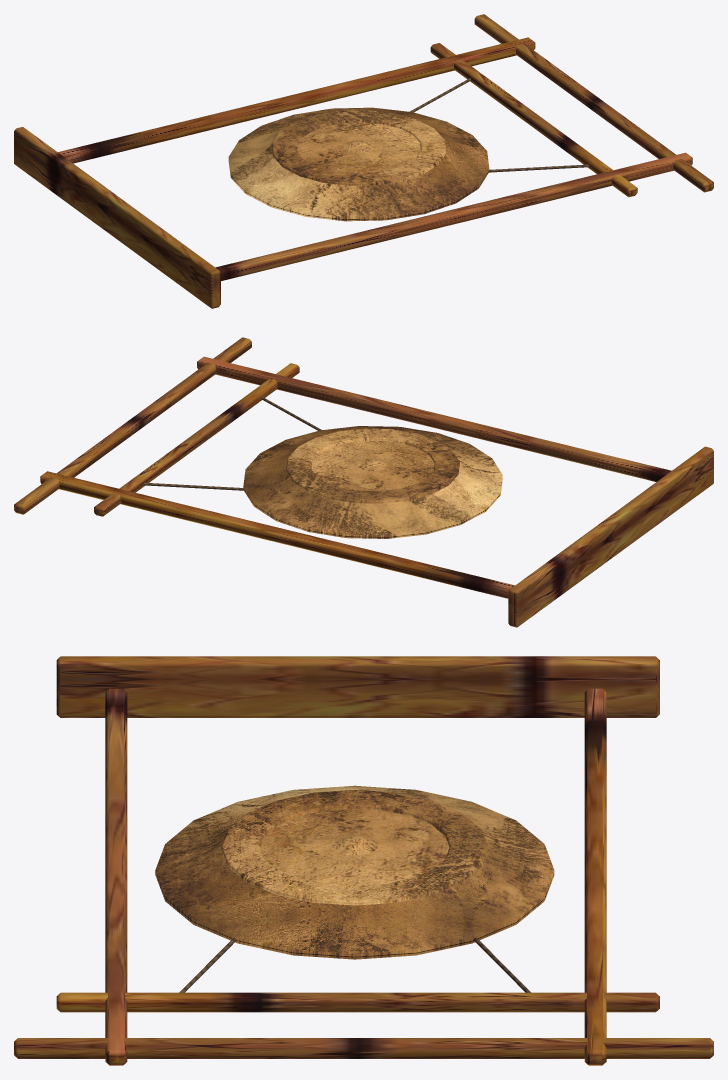
File: Gong.fbx
The picture shows the model from 3 angles, top to bottom: view 1: azimuth 30°, elevation 25°; view 2: azimuth 150°, elevation 25°; view 3: azimuth 270°, elevation 25°; orthographic projection. The views are drawn at different scales.
Visible parts, largest first — view 1: pCube7; view 2: pCube7; view 3: pCube7.
Boxes of the visible parts, x1,y1,x2,y2 form: pCube7: (14,14,713,308); pCube7: (14,337,713,627); pCube7: (14,656,713,1065).
Bounding box in the file's own units: 203 × 14.49 × 162.
Materials: 3 (3 with a texture image).
